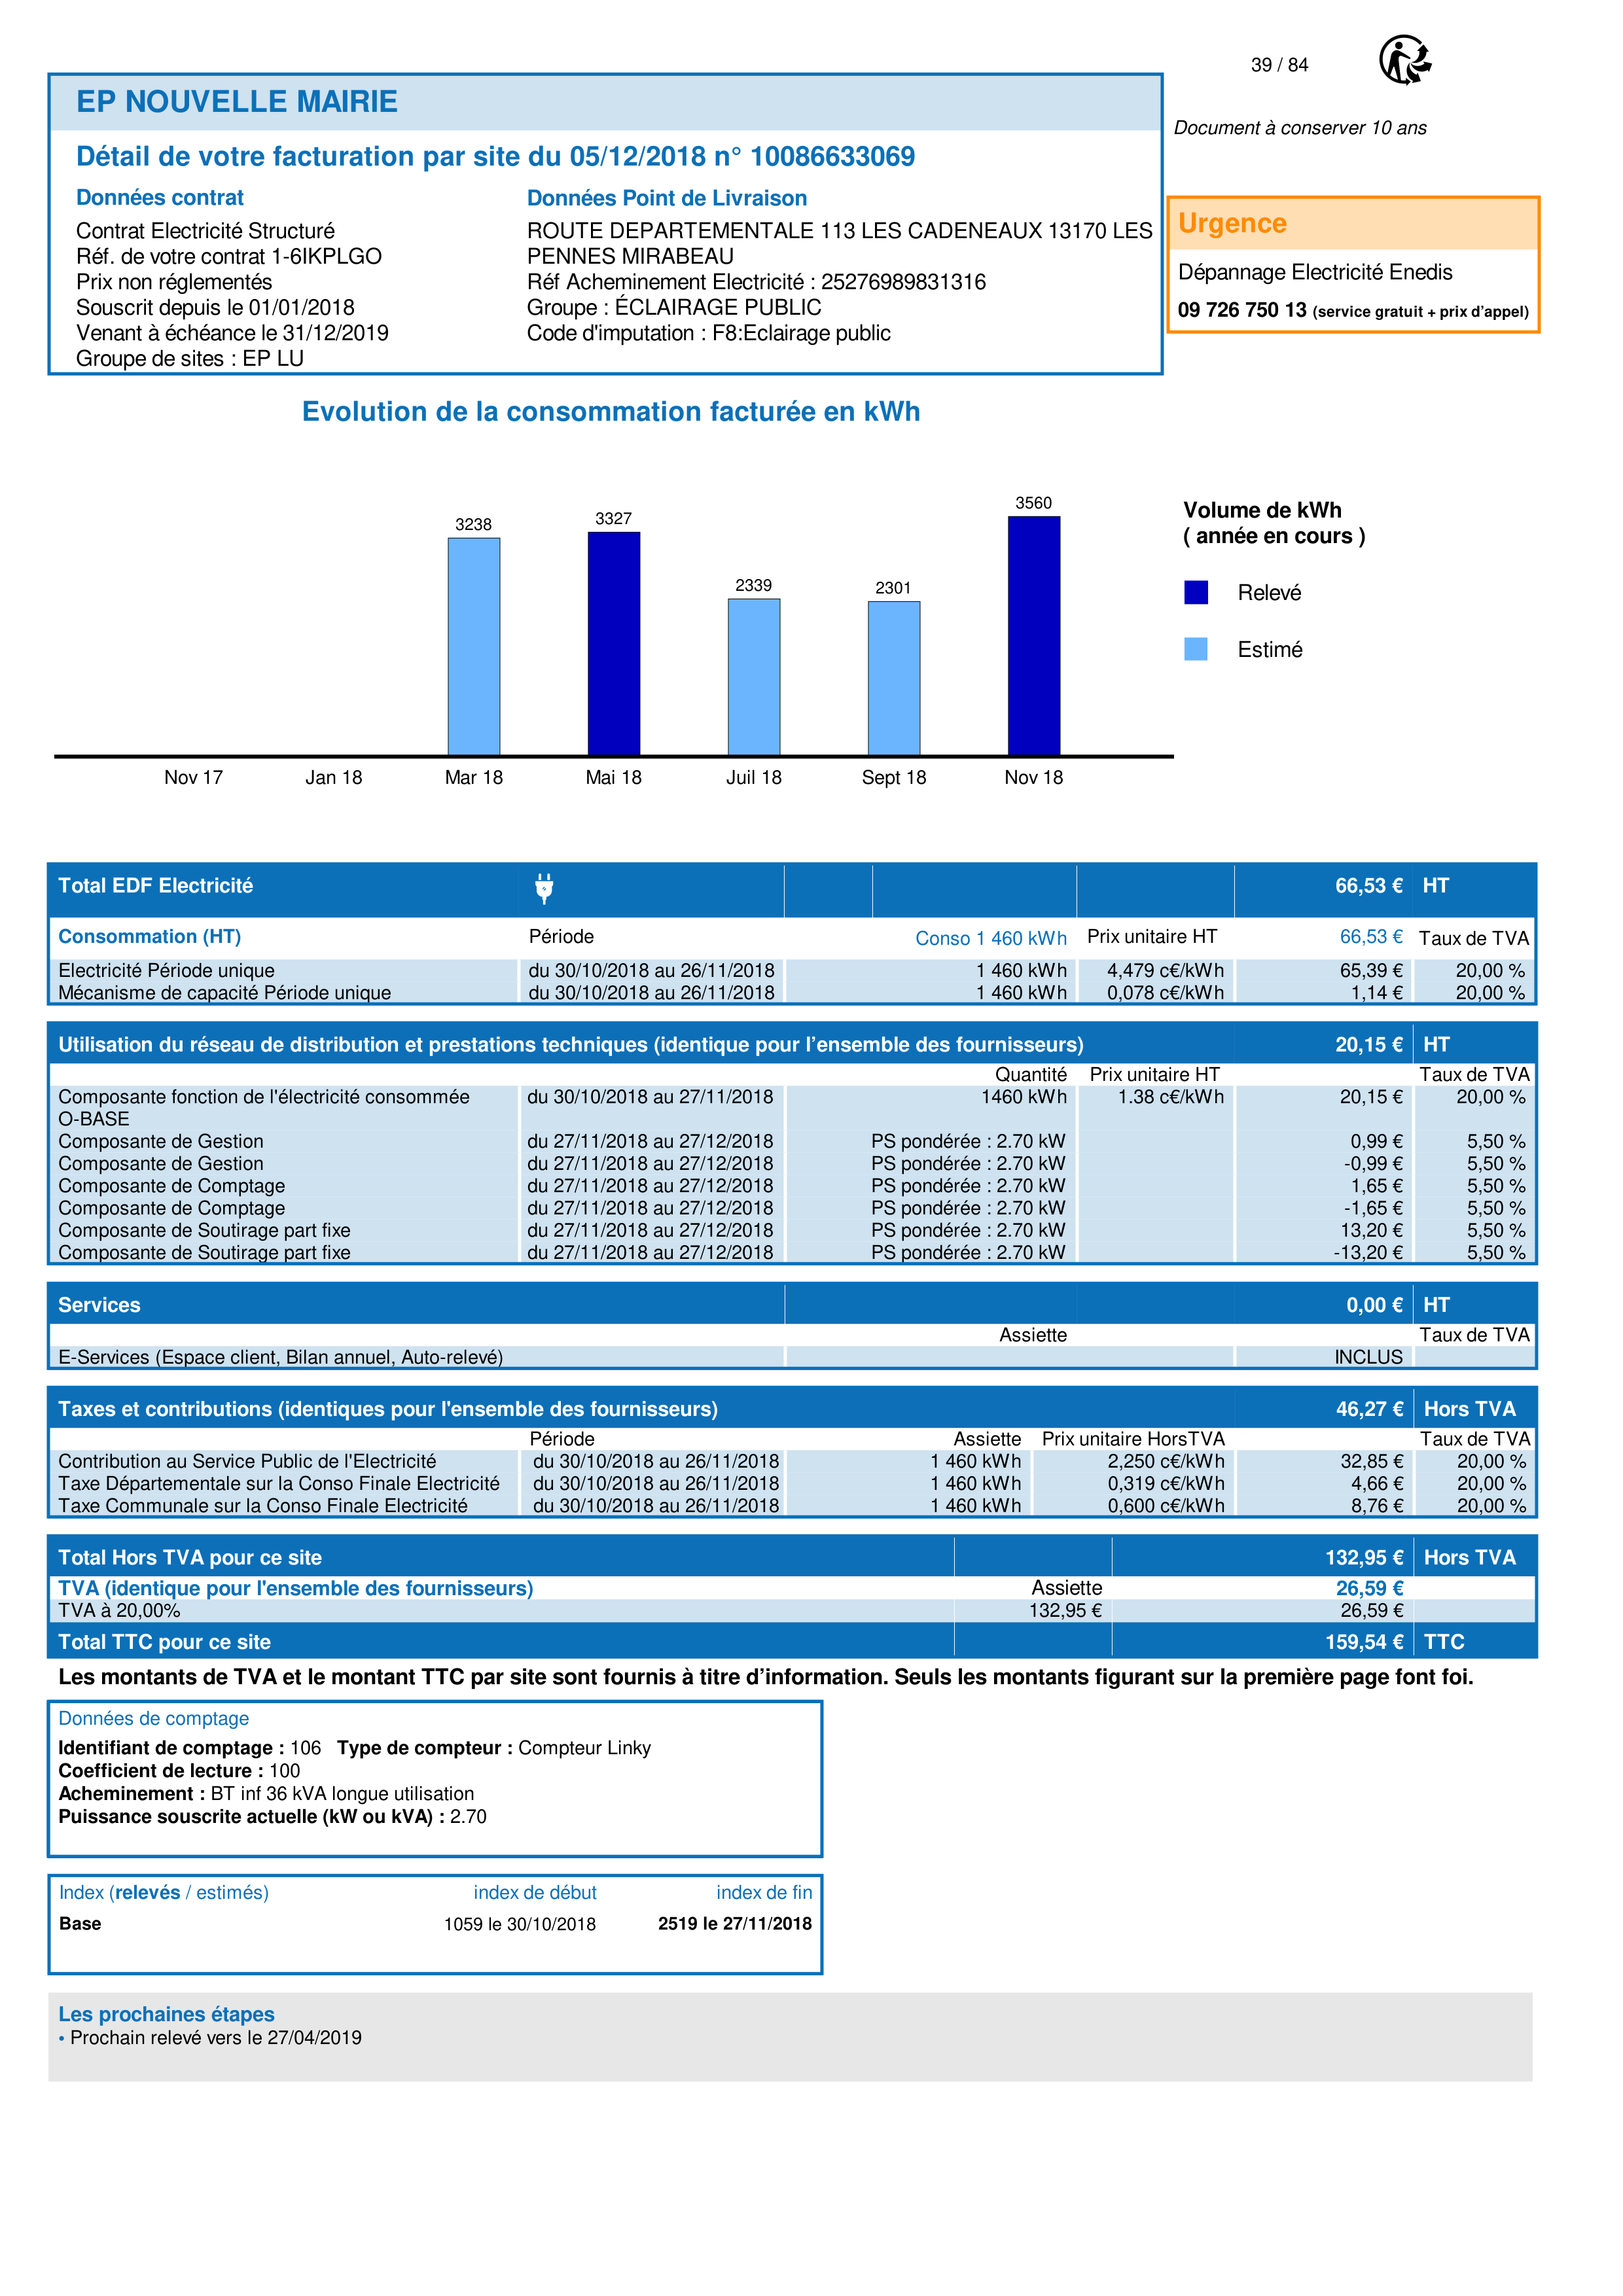area: (46, 1873, 824, 1977)
type_indicator: (47, 1871, 278, 1910)
